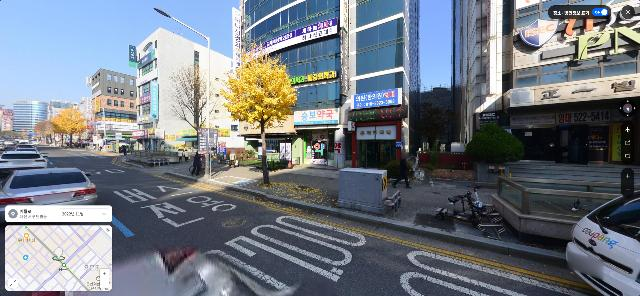ginkgo: (218, 35, 298, 186), (171, 54, 226, 168), (65, 107, 88, 149), (54, 108, 72, 148), (47, 112, 64, 147)
other: (464, 121, 524, 165), (417, 105, 454, 152)
